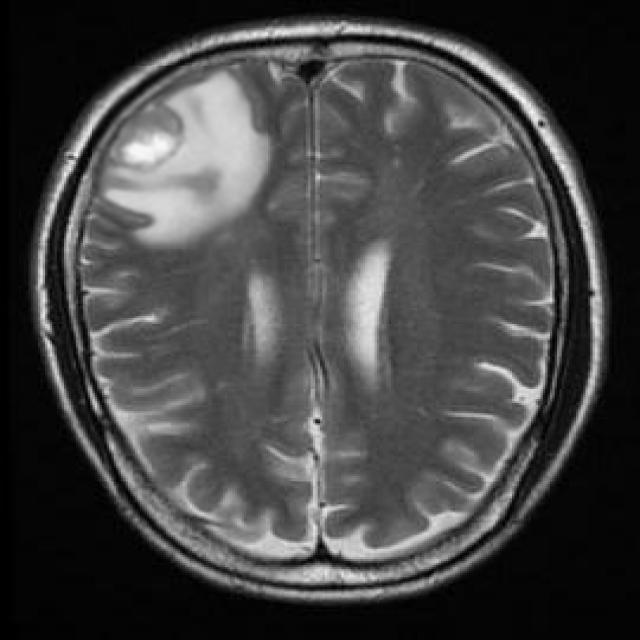Tumor: (93, 67, 268, 248), (105, 103, 187, 168)
